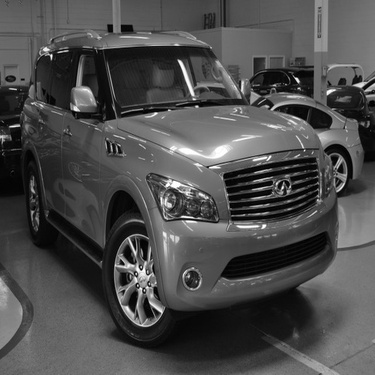car: (20, 18, 342, 323), (263, 78, 343, 170), (244, 44, 374, 97)
